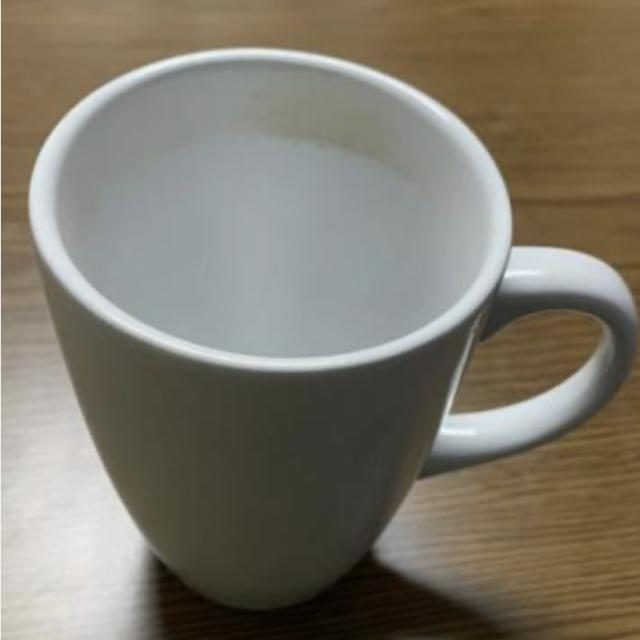recyclable: (20, 25, 640, 614)
